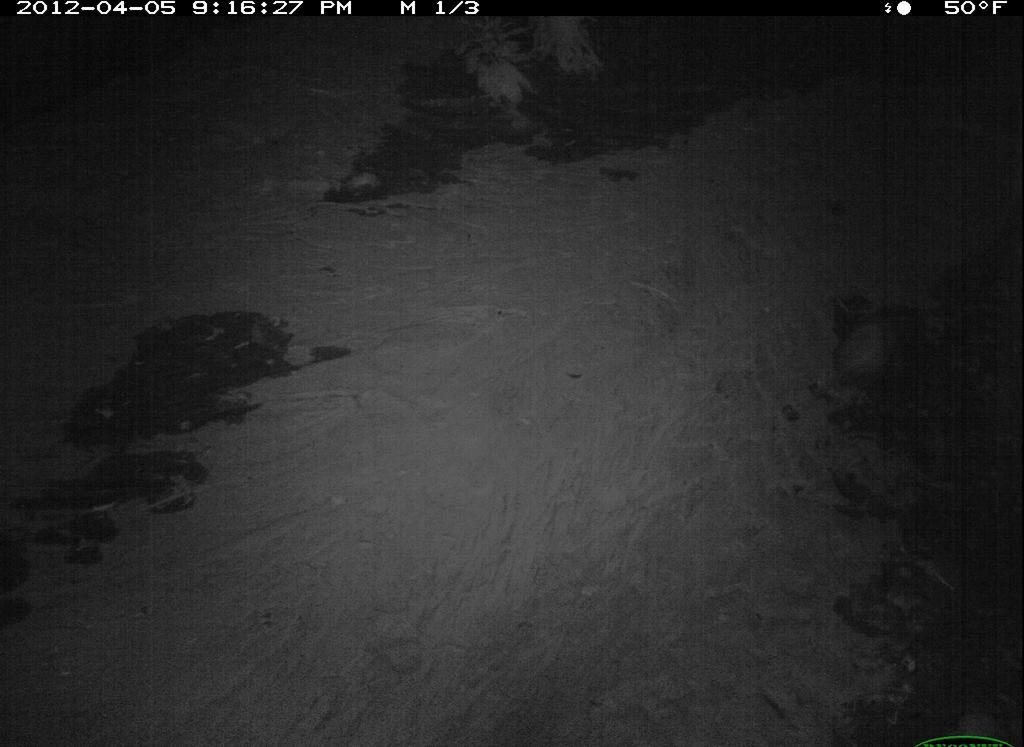opossum: (790, 274, 935, 450)
